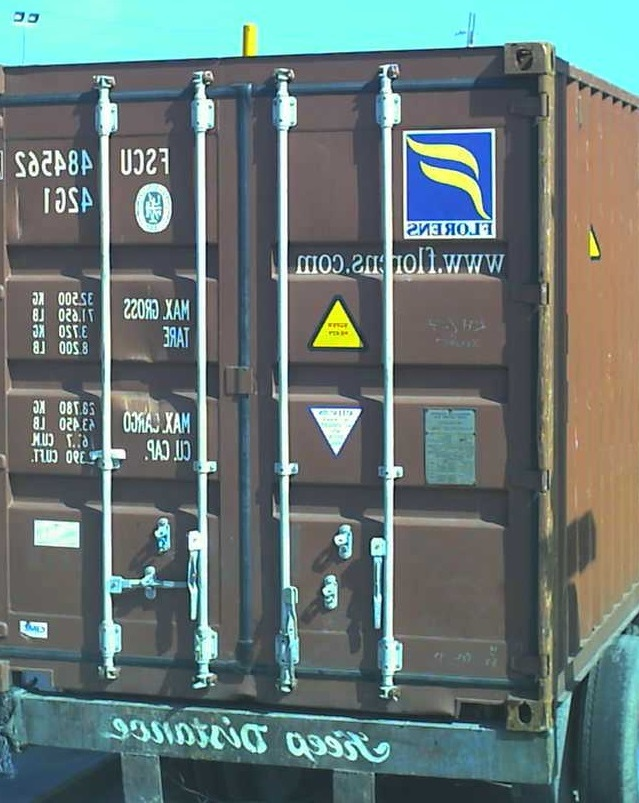container_door: (6, 41, 556, 736)
